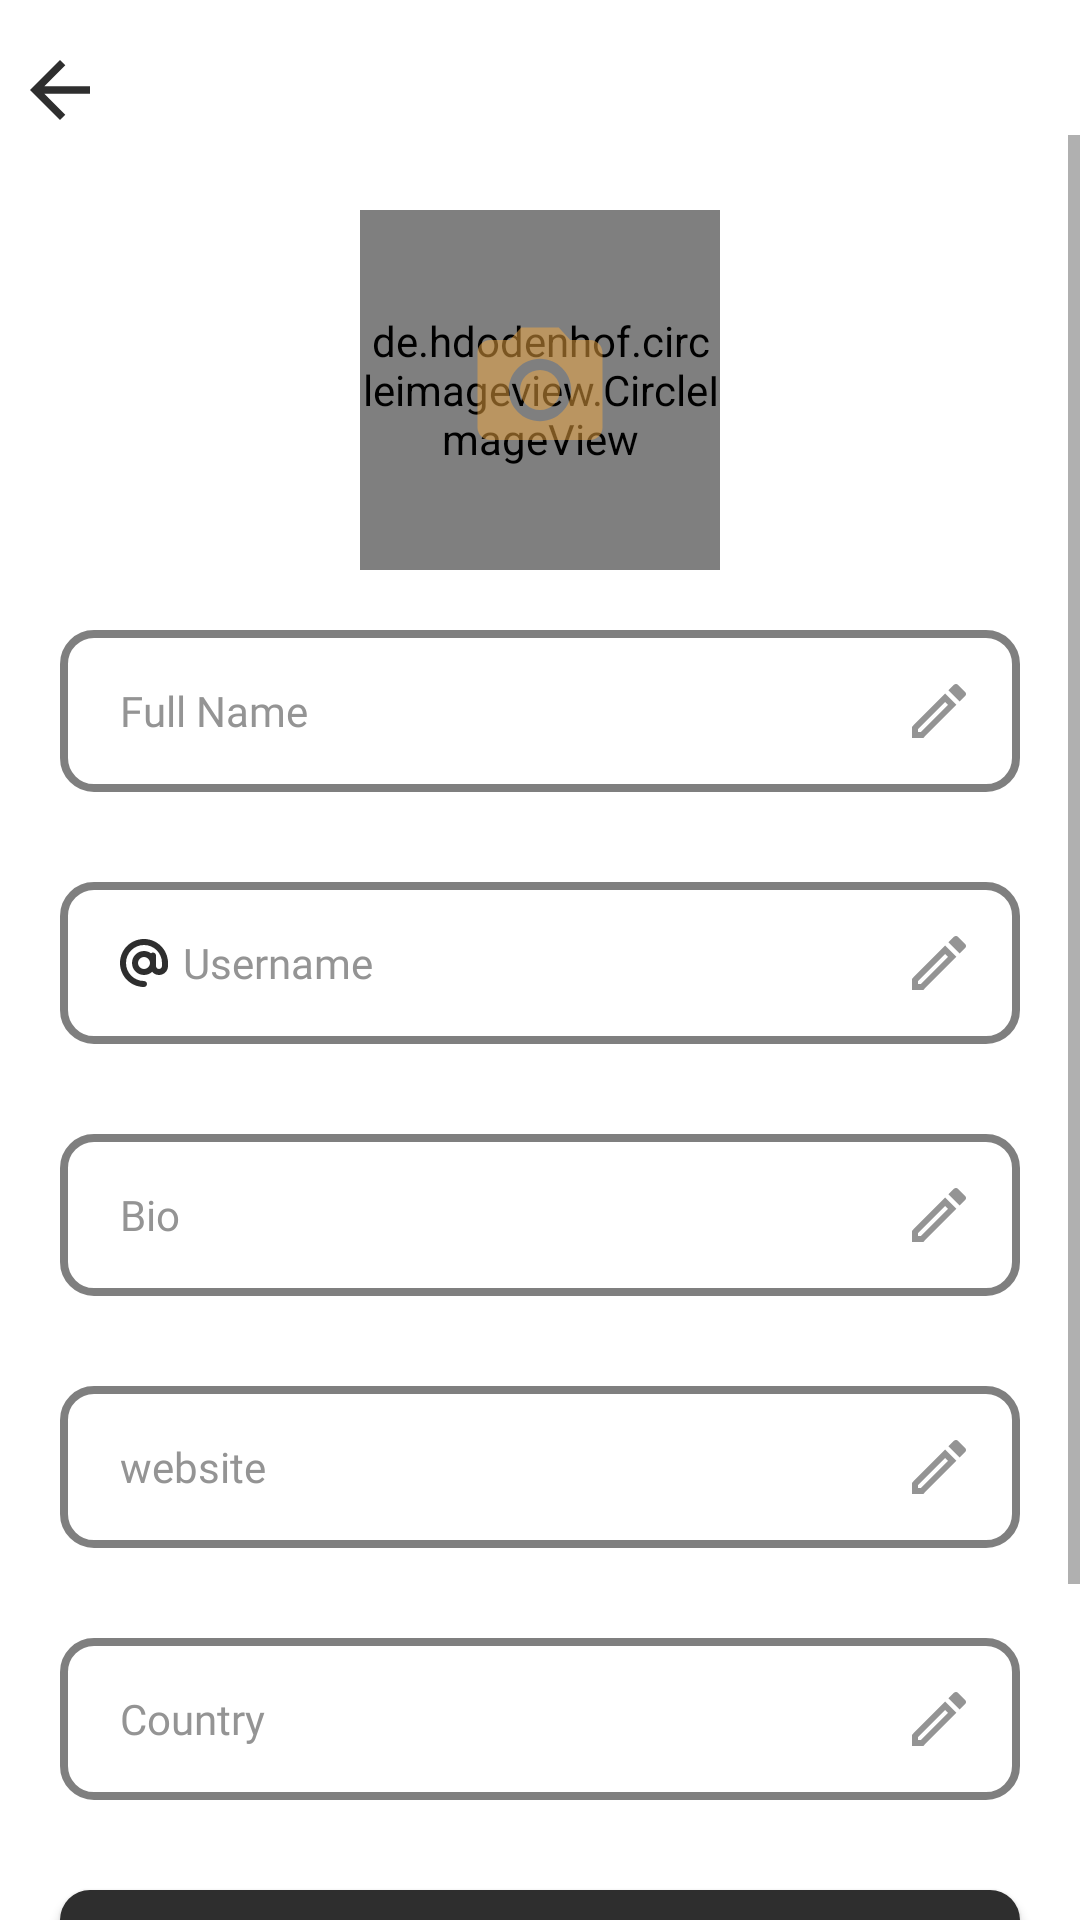

Where icons sit on this 1080*1920 app screen, as (x1, y1, x2, y2):
arrow back: (30, 60, 90, 120)
